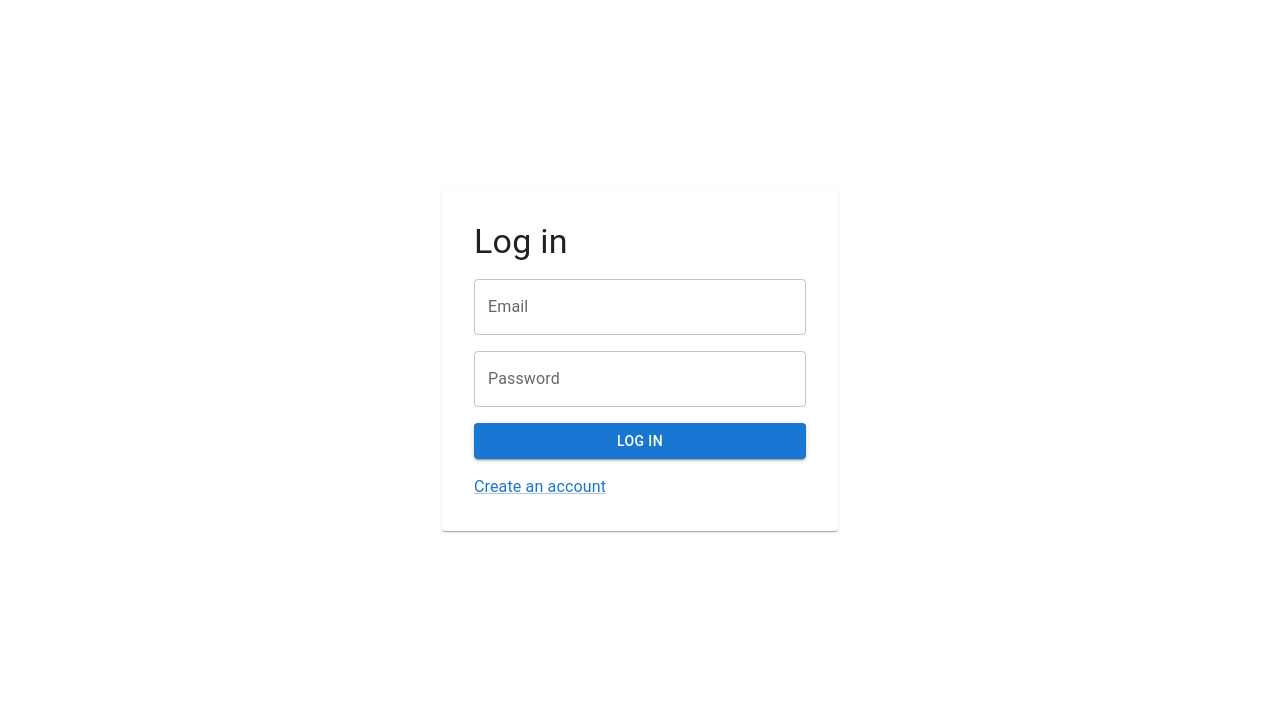
LoginPage › logs in and lands on /vacancies with the session set
Type "a@b.com" into the field labelled "Email". click: (640,307)
box: [474,279,806,335]
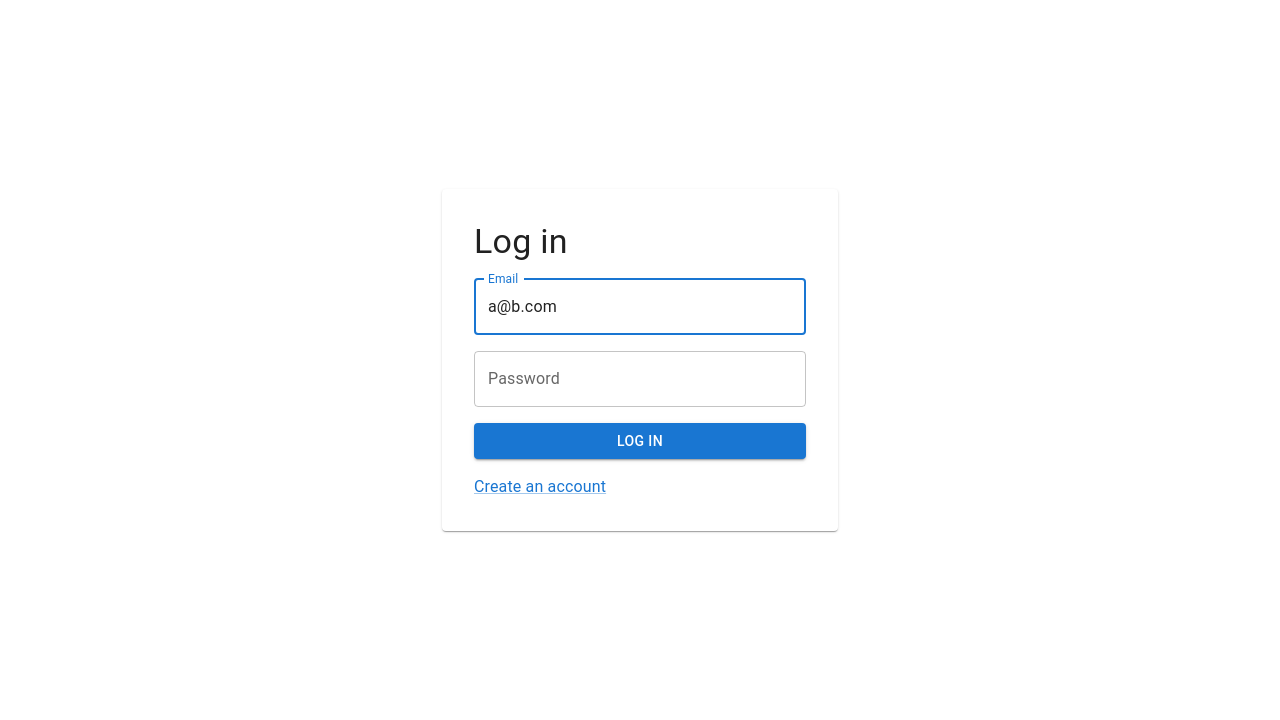
Type "password123" into the password field labelled "Password". click: (640,379)
box: [474,351,806,407]
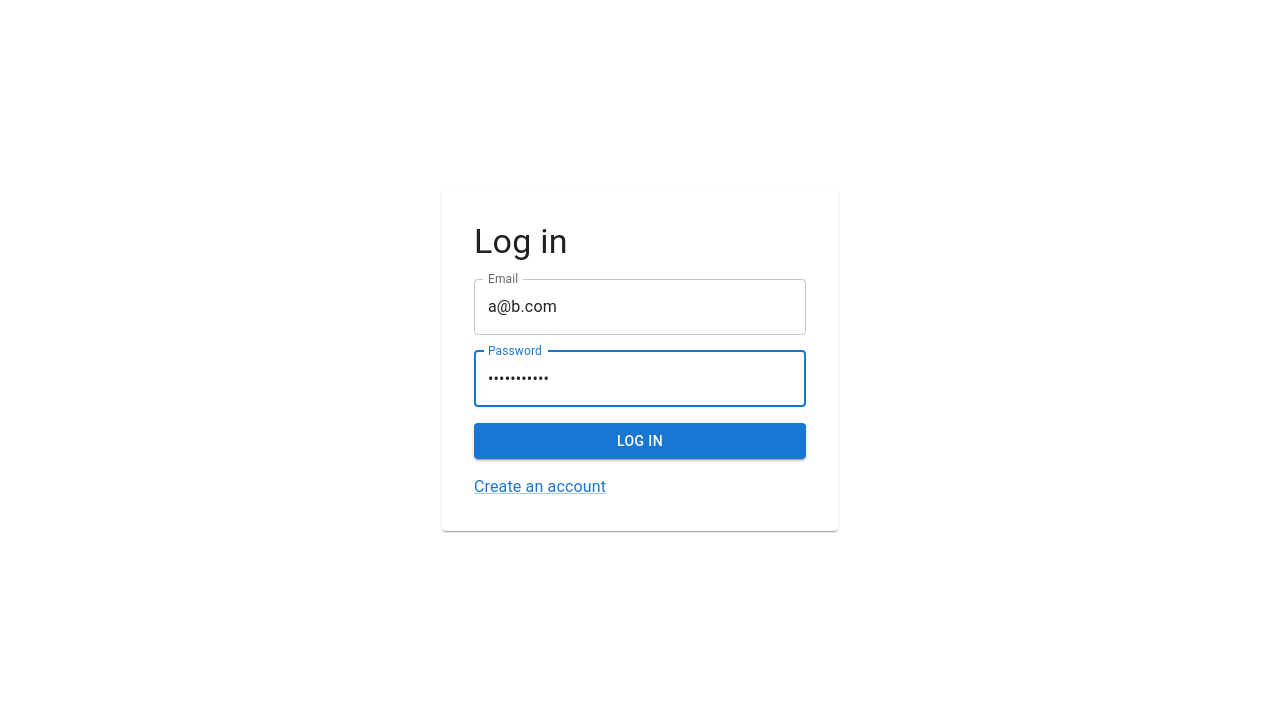
Click the button "Log in". click: (640,441)
box: [474,423,806,459]
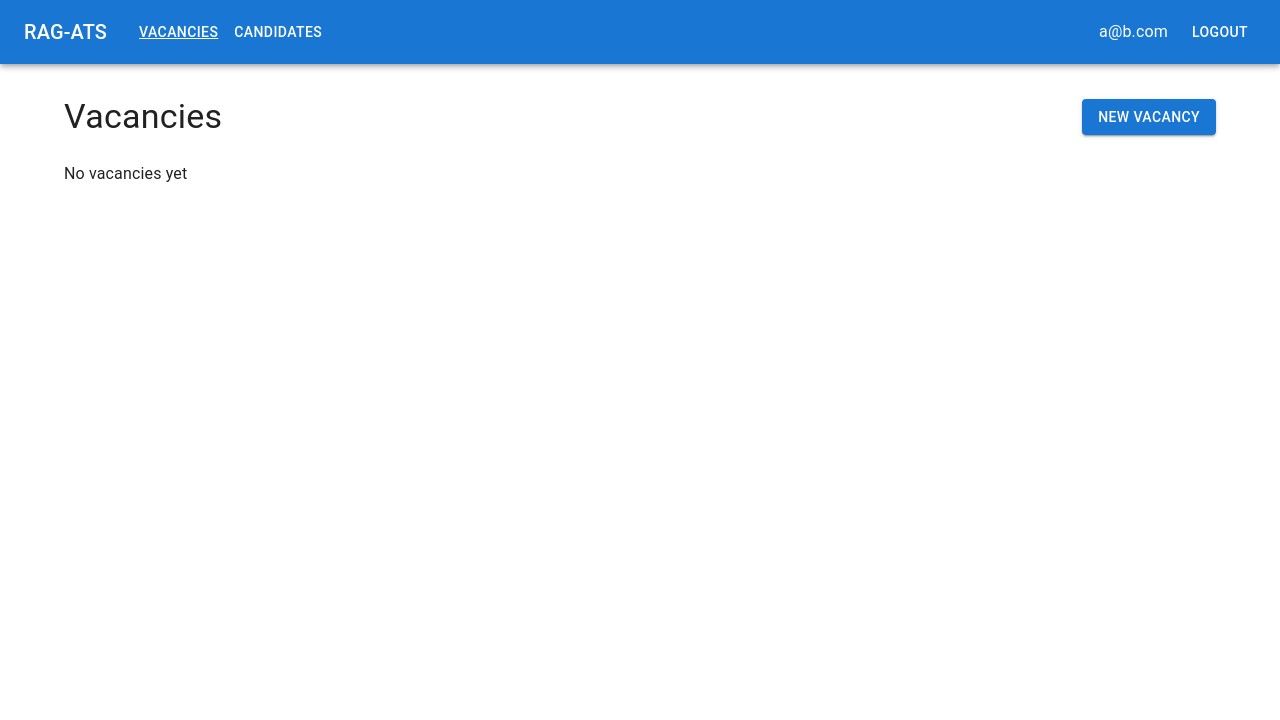
Expected: the heading "Vacancies" is shown, [64,96,222,138]
